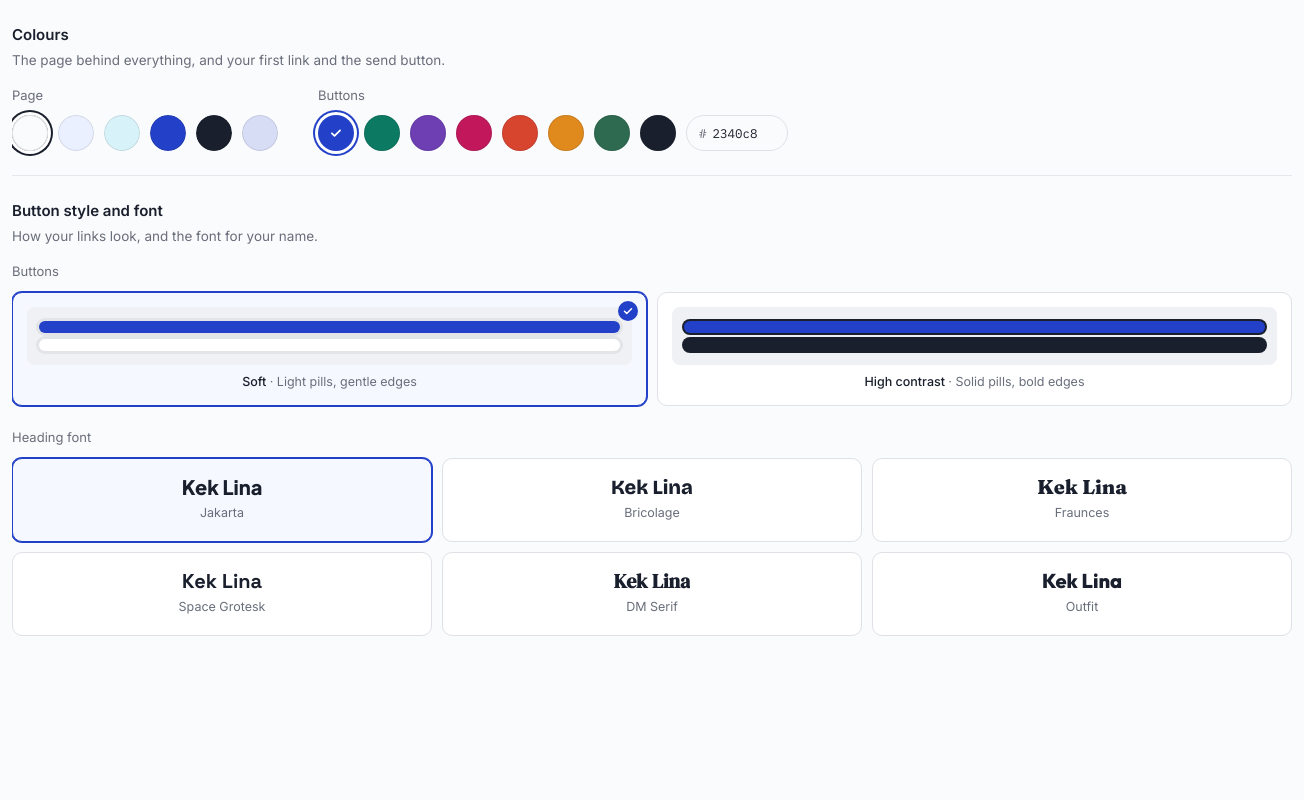
Test: AppearanceEditor › takes a custom colour typed as hex, and refuses one that is not
Replace the text in the field named "Accent colour as hex" with "banana": (744, 133) [712,124,774,143]
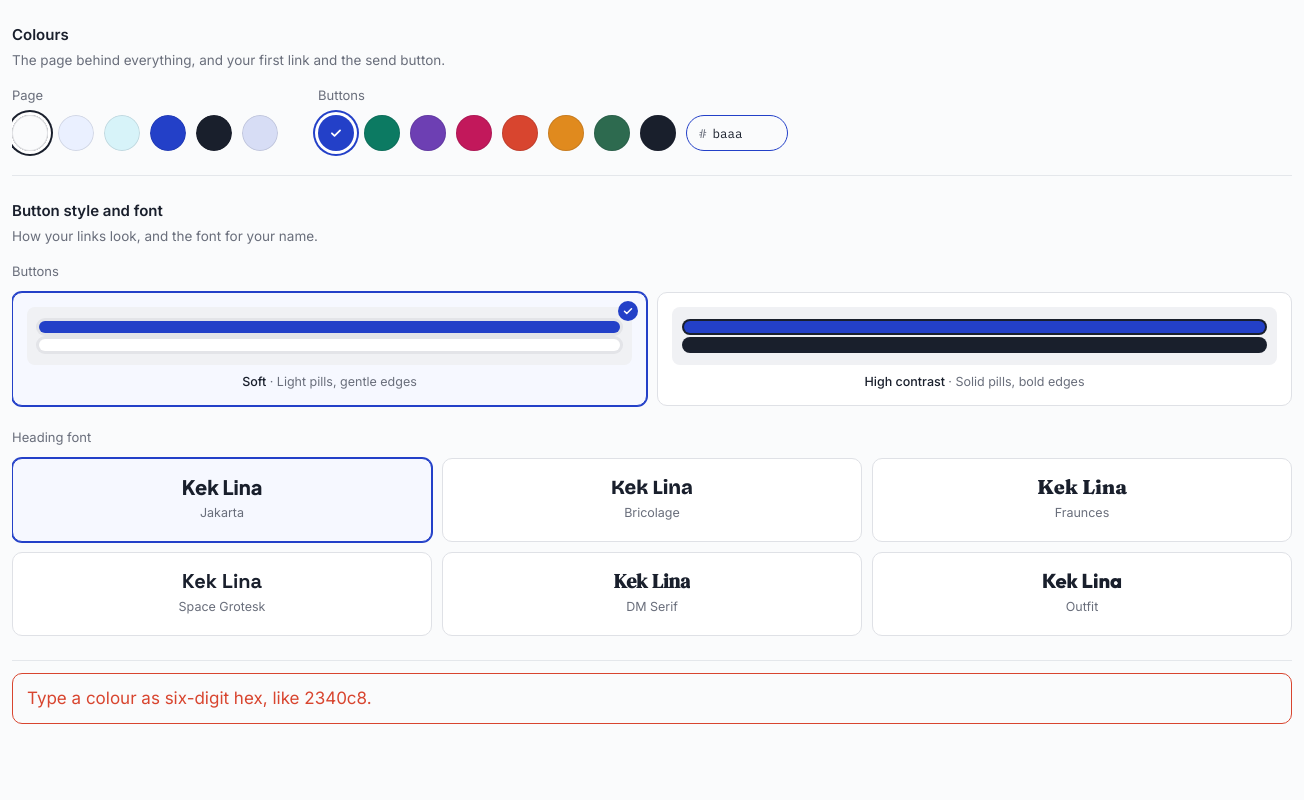
Now the message shows "six-digit hex", box [27,688,372,708]
Now the field named "Accent colour as hex" holds "baaa"
Replace the text in the field named "Accent colour as hex" with "#123abc": (744, 133) [712,124,774,143]
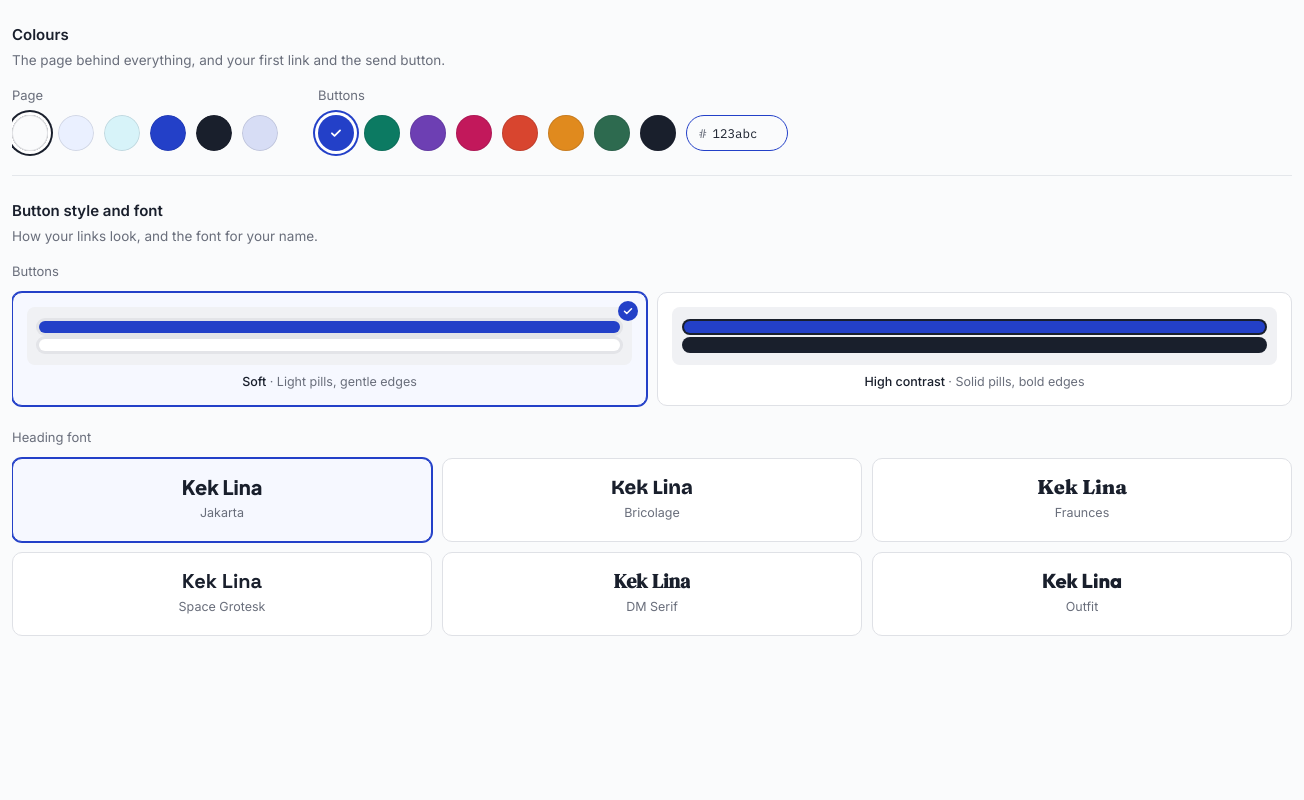
Now the field named "Accent colour as hex" holds "123abc", box [712,124,774,143]
